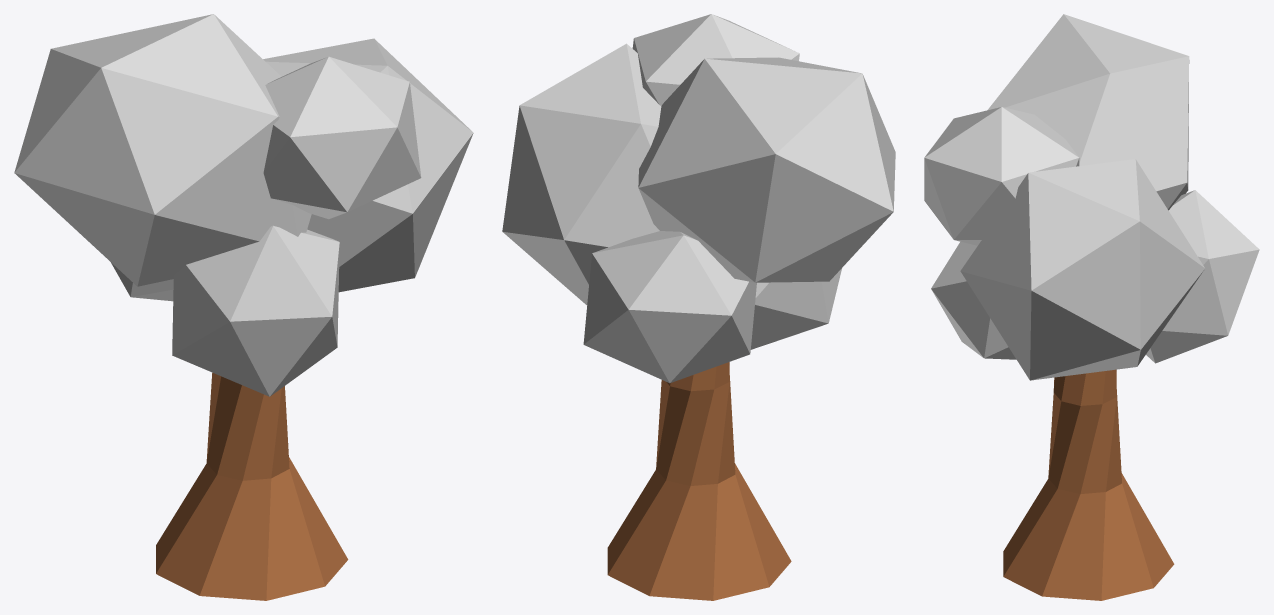
Rendered from tree2.fbx.
3 views of the same model, side by side, from view 1: azimuth 30°, elevation 25°; view 2: azimuth 150°, elevation 25°; view 3: azimuth 270°, elevation 25° (orthographic). The views are drawn at different scales.
Parts seen in each view (by area): view 1: Icosphere, Cylinder, Icosphere.004, Icosphere.001, Icosphere.002, Icosphere.003; view 2: Icosphere, Icosphere.002, Cylinder, Icosphere.003, Icosphere.001, Icosphere.004; view 3: Icosphere.002, Cylinder, Icosphere, Icosphere.001, Icosphere.003, Icosphere.004.
Part boxes in pixels (box(x1,y1,x2,y2)): Icosphere: box(14, 14, 311, 286); Cylinder: box(156, 372, 348, 600); Icosphere.004: box(172, 225, 339, 396); Icosphere.001: box(263, 56, 421, 219); Icosphere.002: box(263, 38, 473, 292); Icosphere.003: box(111, 262, 173, 301); Icosphere: box(638, 57, 895, 282); Icosphere.002: box(502, 43, 661, 305); Cylinder: box(607, 362, 791, 600); Icosphere.003: box(583, 231, 756, 383); Icosphere.001: box(632, 14, 799, 106); Icosphere.004: box(750, 268, 841, 349); Icosphere.002: box(960, 159, 1204, 380); Cylinder: box(1003, 369, 1174, 600); Icosphere: box(987, 14, 1189, 210); Icosphere.001: box(924, 107, 1079, 245); Icosphere.003: box(1146, 190, 1259, 363); Icosphere.004: box(931, 241, 1016, 359).
Size of the model in its own units: 1122 by 1400 by 885.
